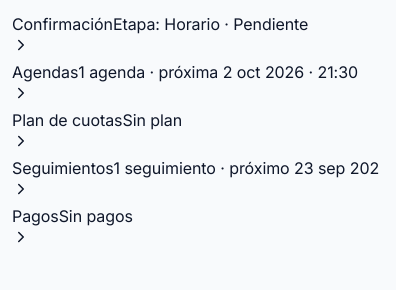
it: corregir una agenda en la fila › quien no puede reportar ve la agenda pero no el lápiz
Click the button "Agendas1 agenda · próxima 2 oct 2026 · 21:30": (185, 81) [12,60,358,102]
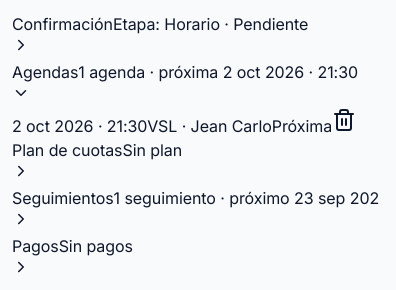
Now the text "VSL · Jean Carlo" is shown, box [147,116,272,136]
